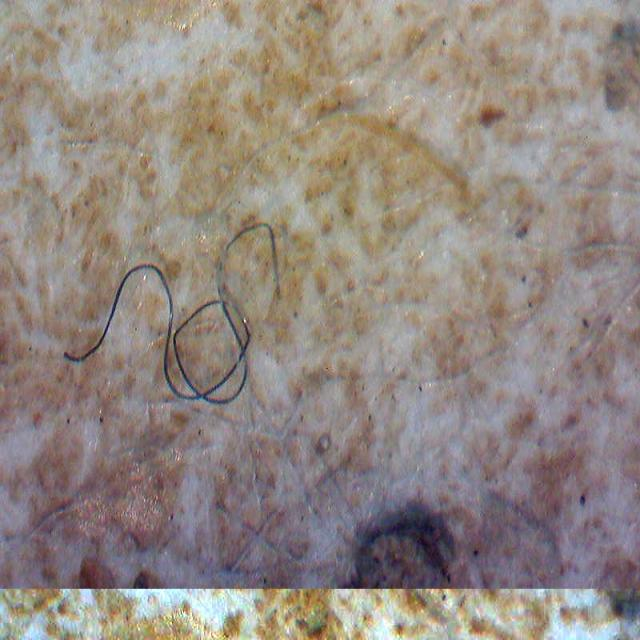microplastic: (63, 247, 236, 405), (190, 301, 261, 405), (217, 215, 298, 304), (160, 289, 225, 397), (201, 354, 263, 416), (221, 303, 245, 350)
